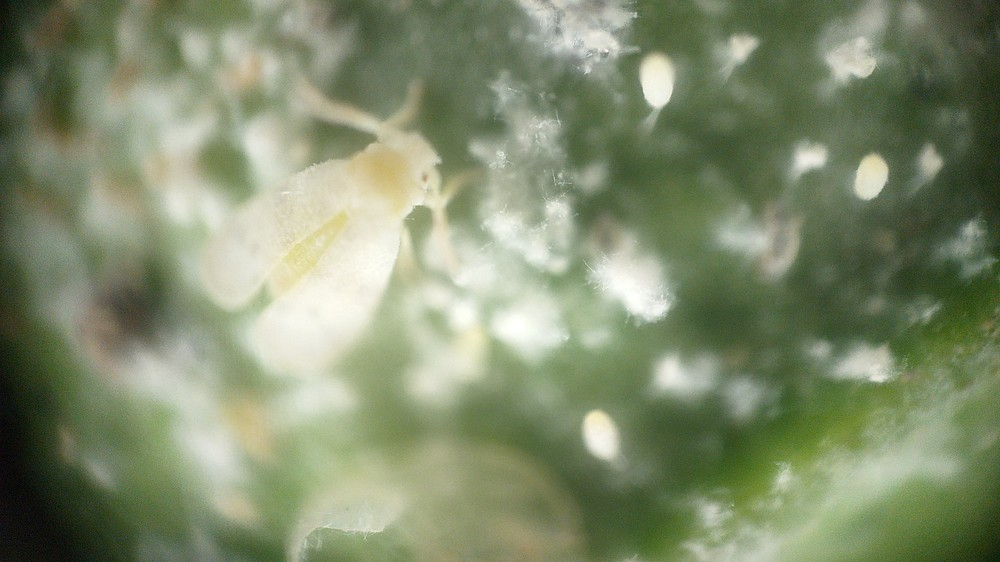Mosca Blanca: (183, 76, 485, 390)
